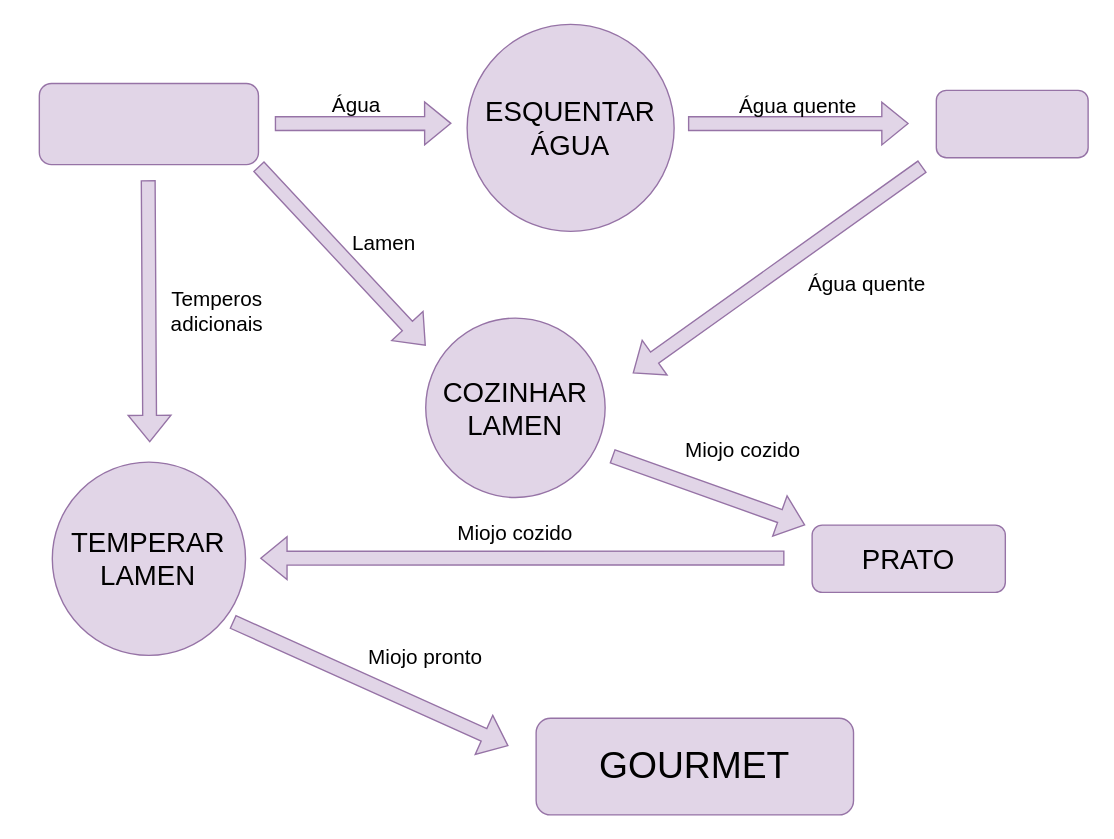
This 1114x839 diagram has some shape labels left out. The shapes that lost their labels are listed below. From the top down, each one's centre as x and y in pixels, then its label:
the point at 148,123: COZINHEIRO
the point at 1011,123: PANELA
